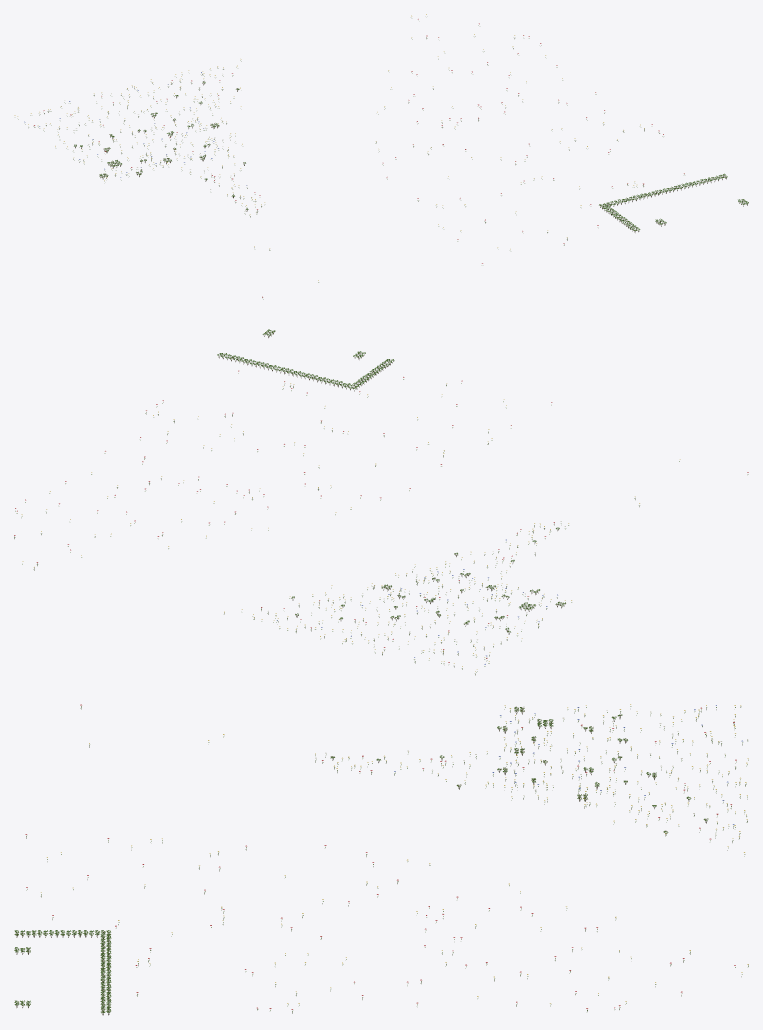
The picture shows the model from 3 angles, top to bottom: view 1: azimuth 30°, elevation 25°; view 2: azimuth 150°, elevation 25°; view 3: azimuth 270°, elevation 25°; orthographic projection. The views are drawn at different scales.
Parts seen in each view (by area): view 1: GROUND_FLORA_s_-9_-2; view 2: GROUND_FLORA_s_-9_-2; view 3: GROUND_FLORA_s_-9_-2.
Part boxes in pixels (box(x1,y1,x2,y2)): GROUND_FLORA_s_-9_-2: box(14, 14, 748, 299); GROUND_FLORA_s_-9_-2: box(14, 329, 748, 675); GROUND_FLORA_s_-9_-2: box(14, 704, 748, 1015).
Bounding box in the file's own units: 127 × 0.9729 × 128.
